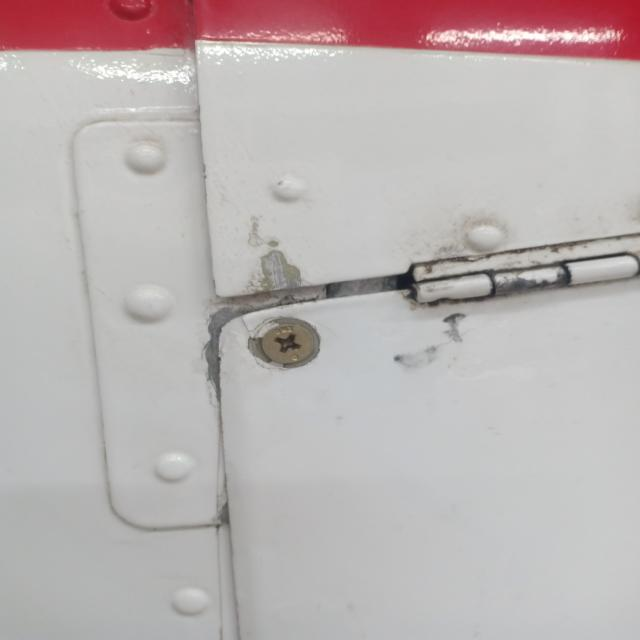Rupture: (164, 212, 390, 430)
